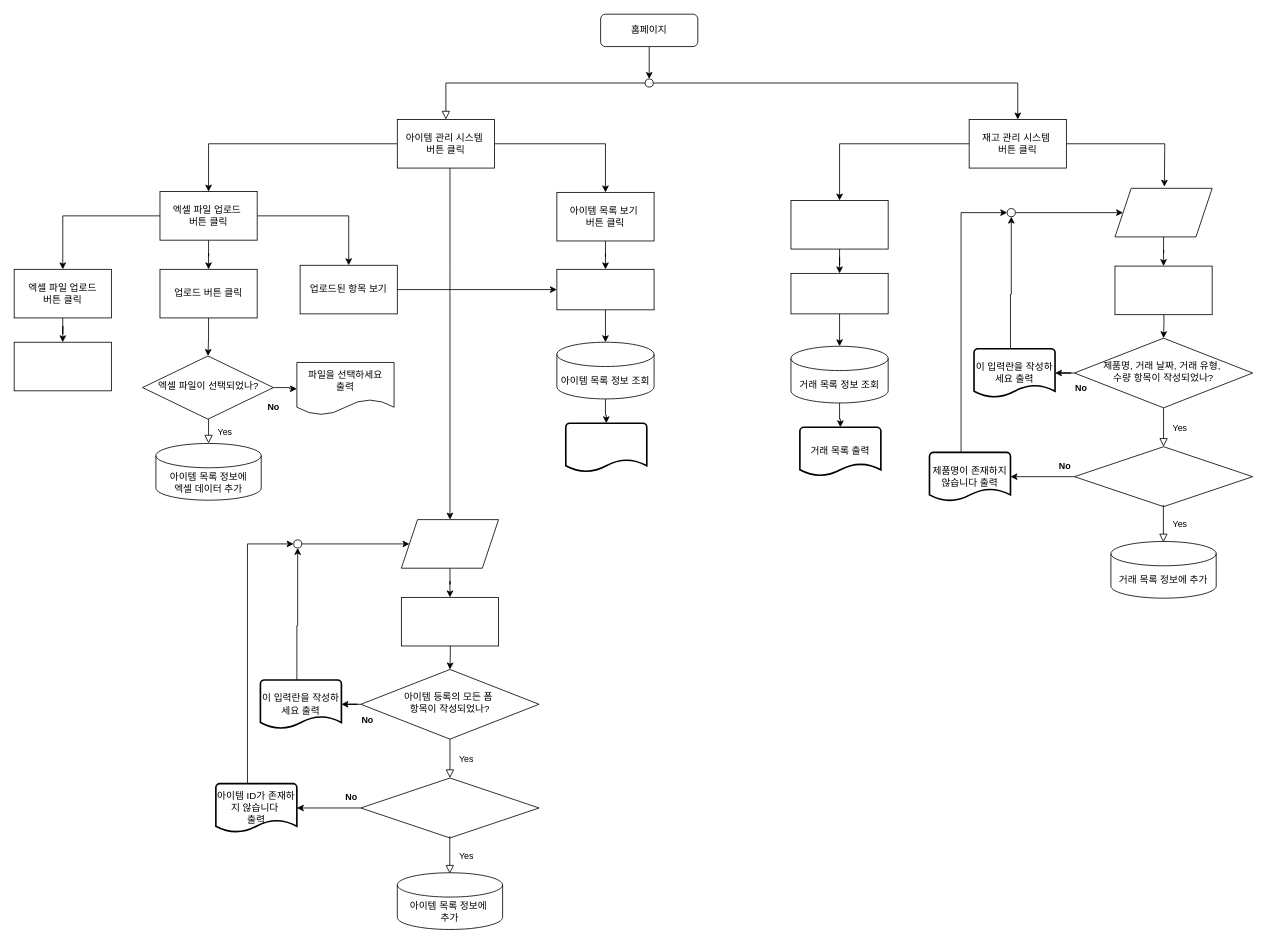
This 1267x944 diagram has some shape labels left out. The box of each missing label's shape, as (x1, y1, x2, y2) in pixels:
거래 목록 조회 버튼 클릭: (790, 200, 888, 249)
거래목록 조회 필터 적용: (790, 273, 888, 314)
구매, 판매 정보 등록 폼 입력: (1114, 188, 1212, 237)
등록 버튼 클릭: (1114, 265, 1212, 315)
사용자 pc에서 엑셀파일 업로드: (13, 341, 111, 391)
아이템 ID 존재 유무 확인: (360, 777, 539, 838)
아이템 등록 버튼 클릭: (401, 597, 499, 646)
아이템 등록 폼 입력: (401, 519, 499, 568)
아이템 목록 조회 필터 적용: (556, 269, 654, 310)
아이템 목록 출력: (565, 422, 647, 472)
제품명이 아이템 목록에 존재하는 이름인가?: (1074, 446, 1253, 507)
